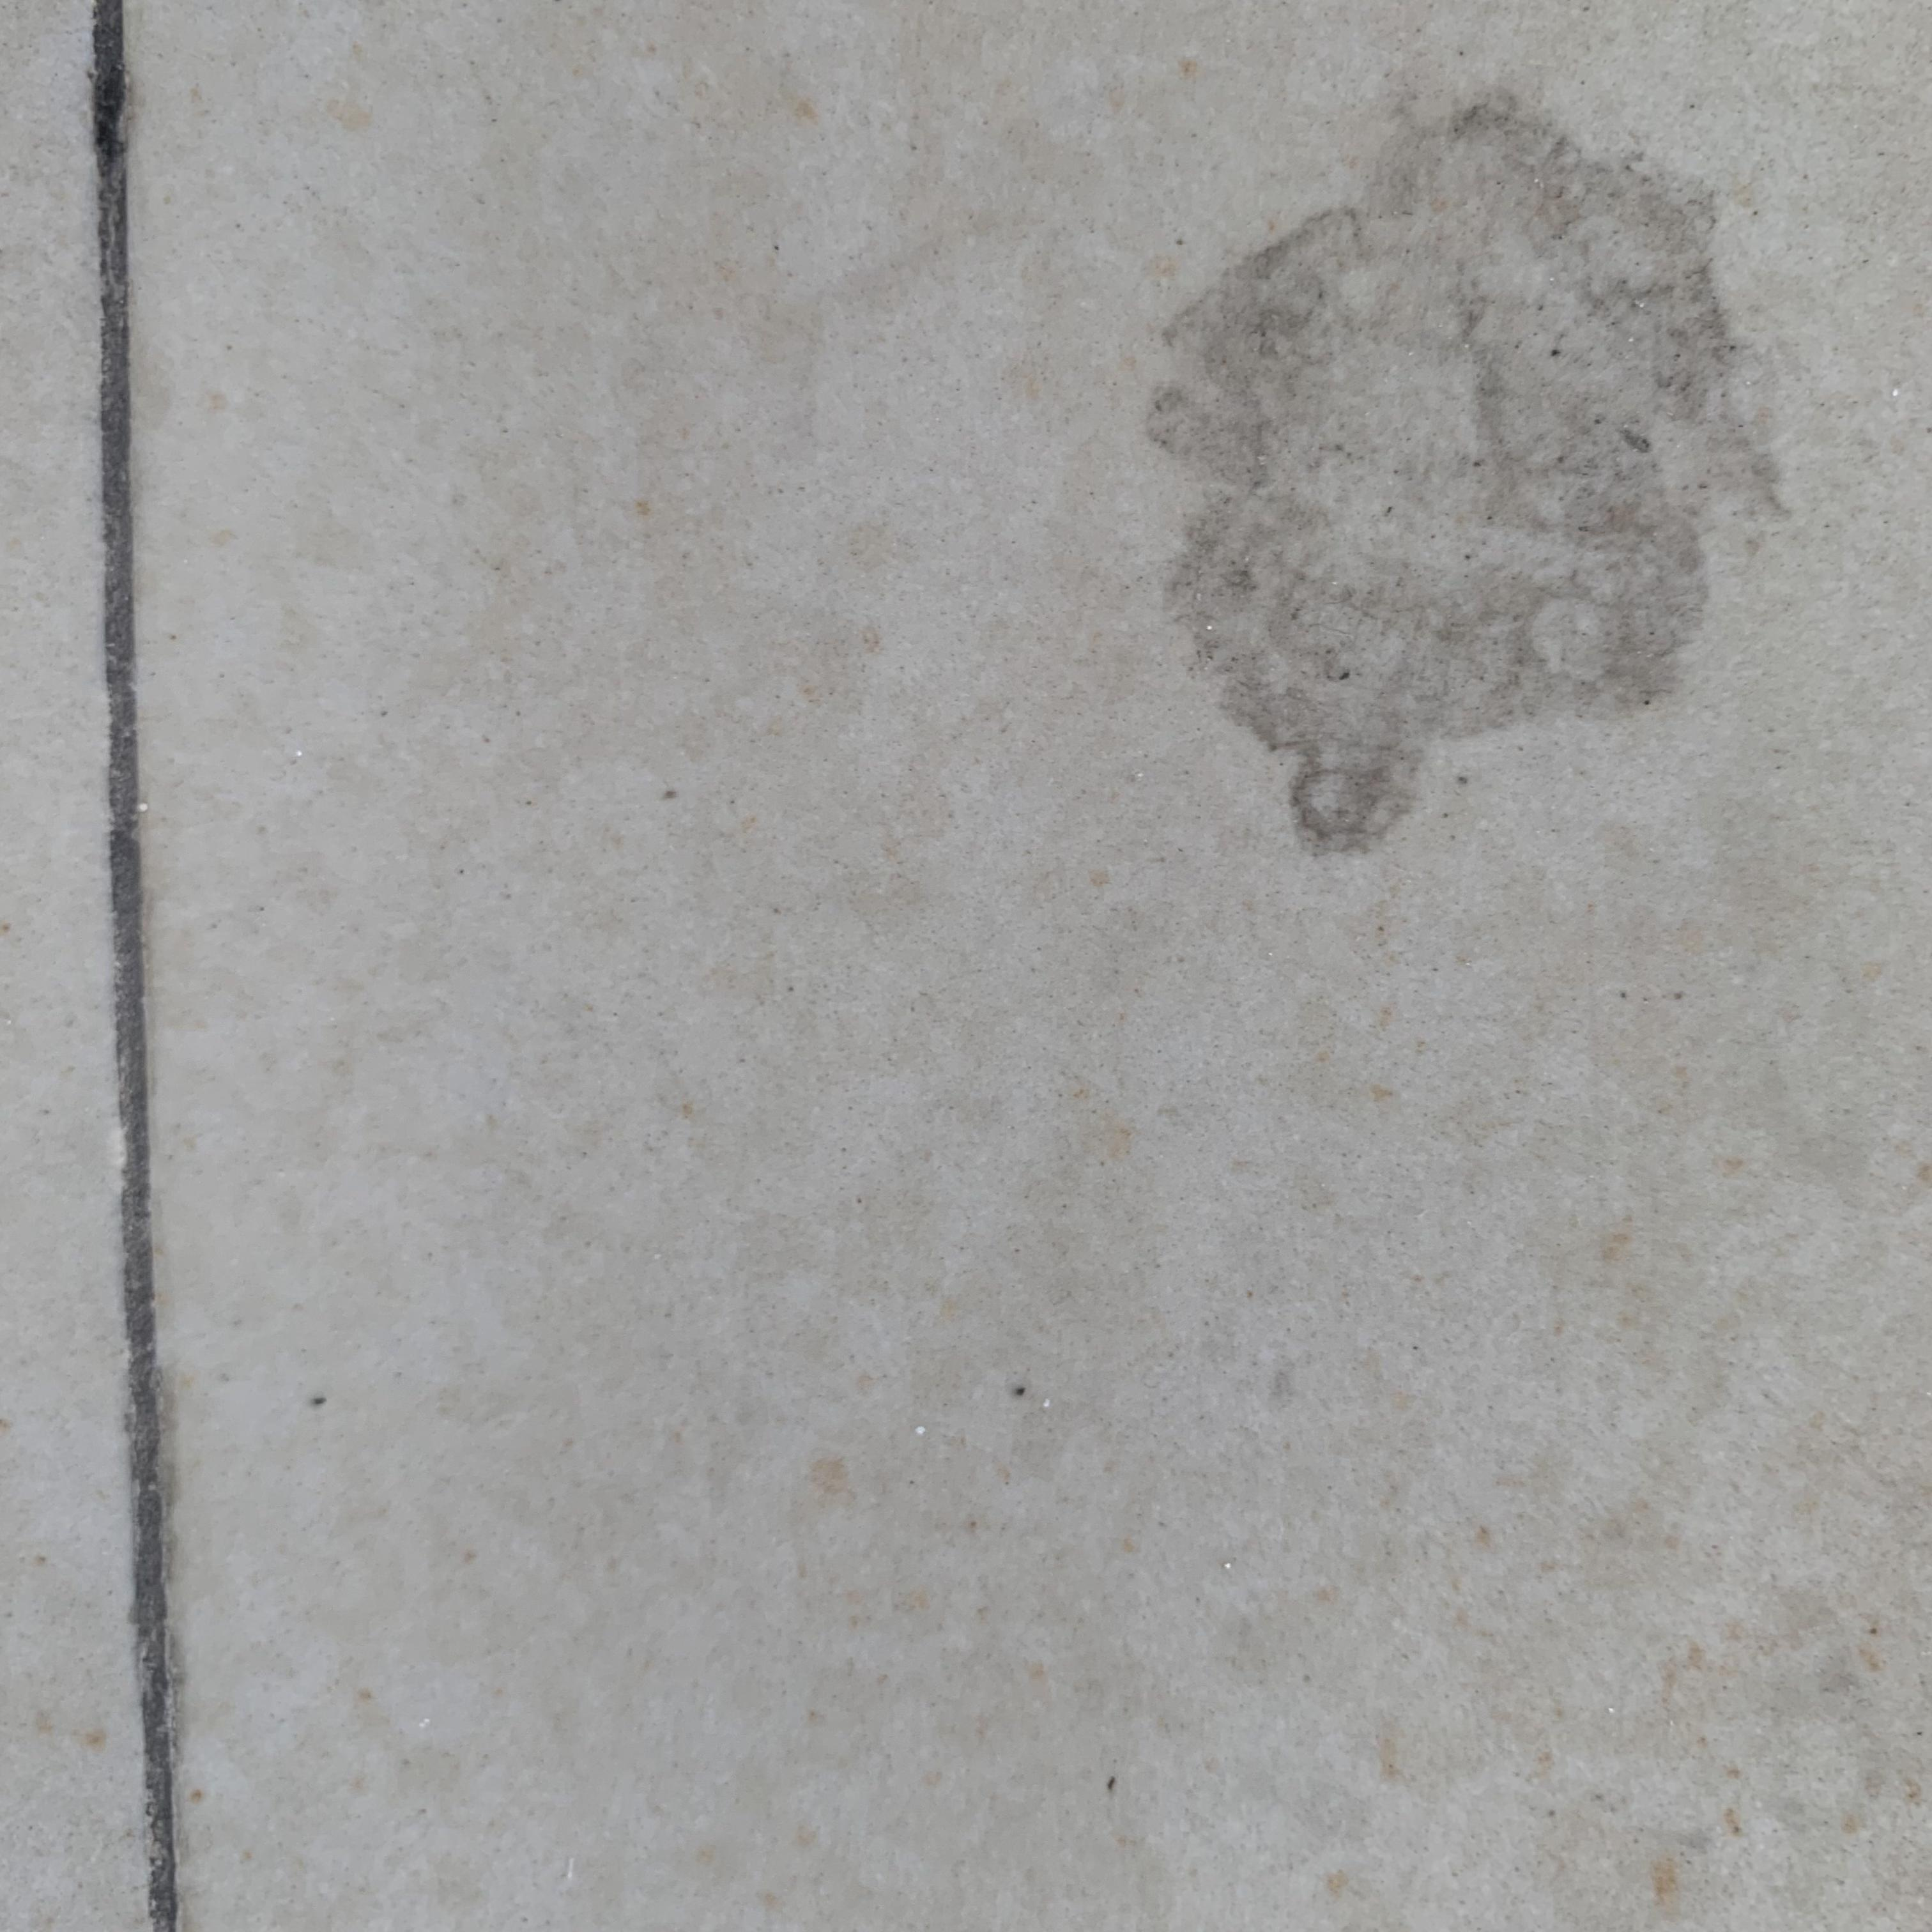grey spot: (1150, 94, 1785, 860)
